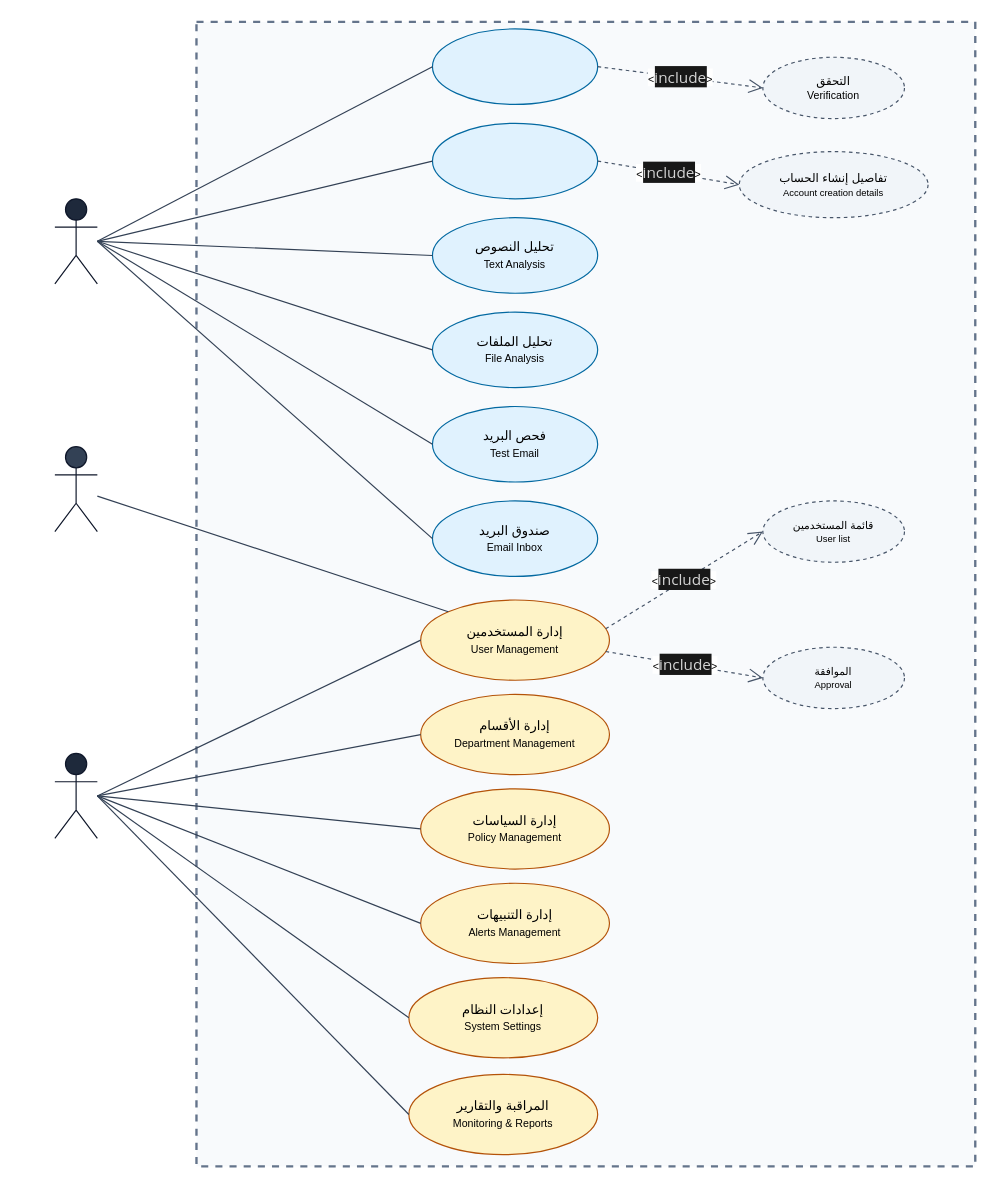
Image size: 997x1197. Some labels were removed from this diagram. The shapes that lost their labels are listed below. From the top down, each one's centre as x and y in pixels, then its label:
At point 514,66: "تسجيل الدخول Login".
At point 514,160: "إنشاء حساب Create Account".
At point 75,241: "المستخدم User".
At point 75,488: "مدير القسم Department Manager".
At point 75,795: "مدير النظام System Administrator".
